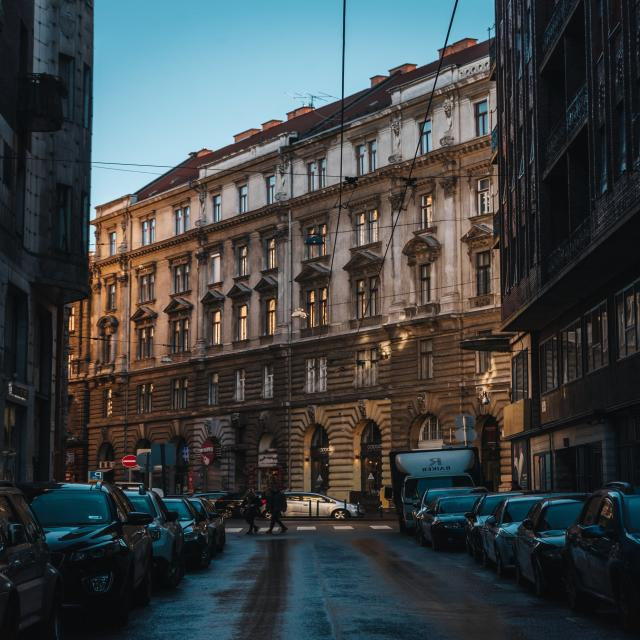adult: (265, 486, 288, 534), (240, 490, 262, 534)
